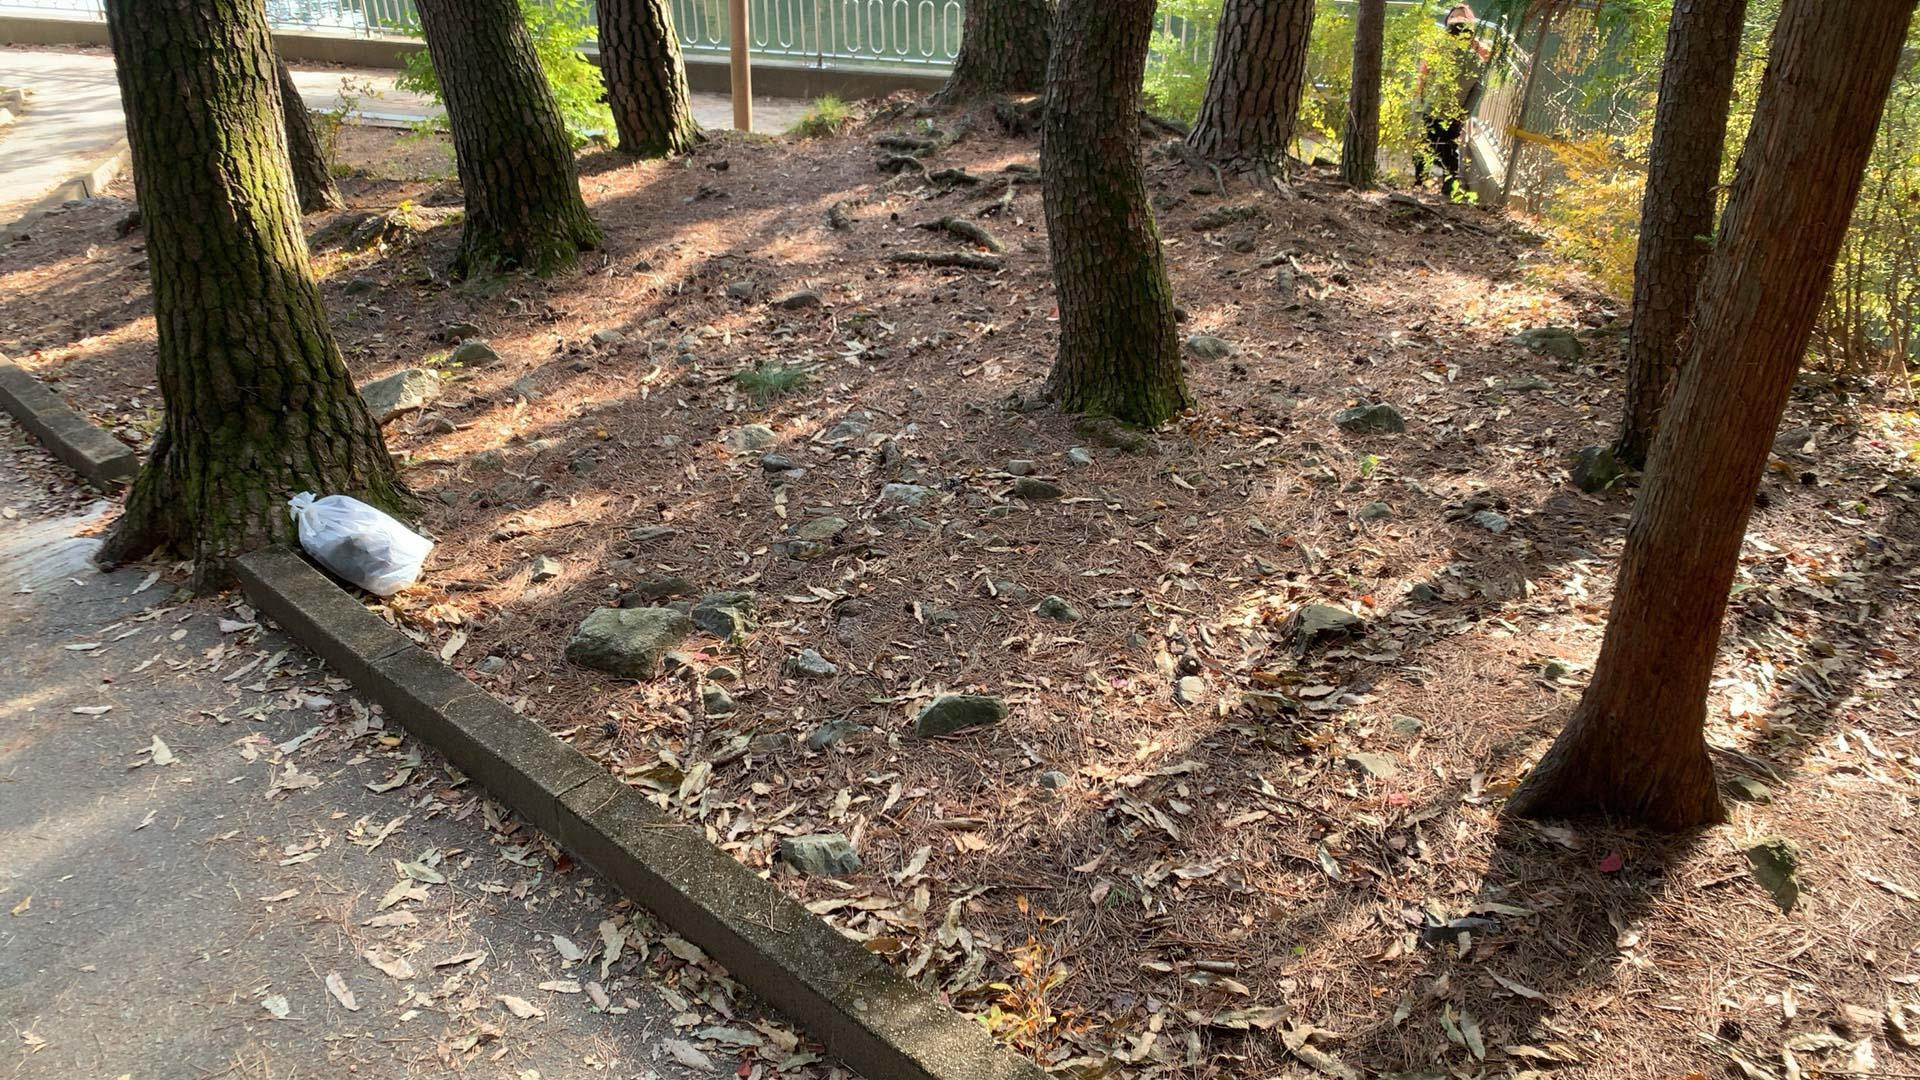white_bag: (280, 485, 440, 609)
